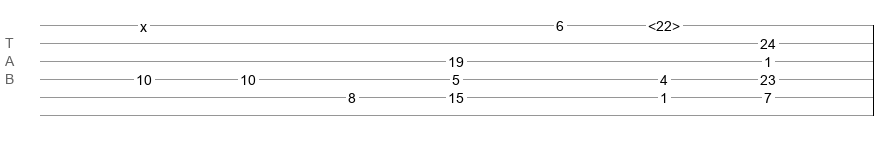1: (660, 90, 668, 100), (764, 54, 772, 64)
10: (136, 72, 152, 82), (240, 72, 256, 82)
15: (448, 90, 464, 100)
19: (448, 54, 464, 64)
23: (760, 72, 776, 82)
24: (760, 36, 776, 46)
4: (660, 72, 668, 82)
5: (452, 72, 460, 82)
6: (556, 18, 564, 28)
7: (764, 90, 772, 100)
8: (348, 90, 356, 100)
harmonic: (648, 18, 680, 28)
x: (140, 19, 147, 27)
